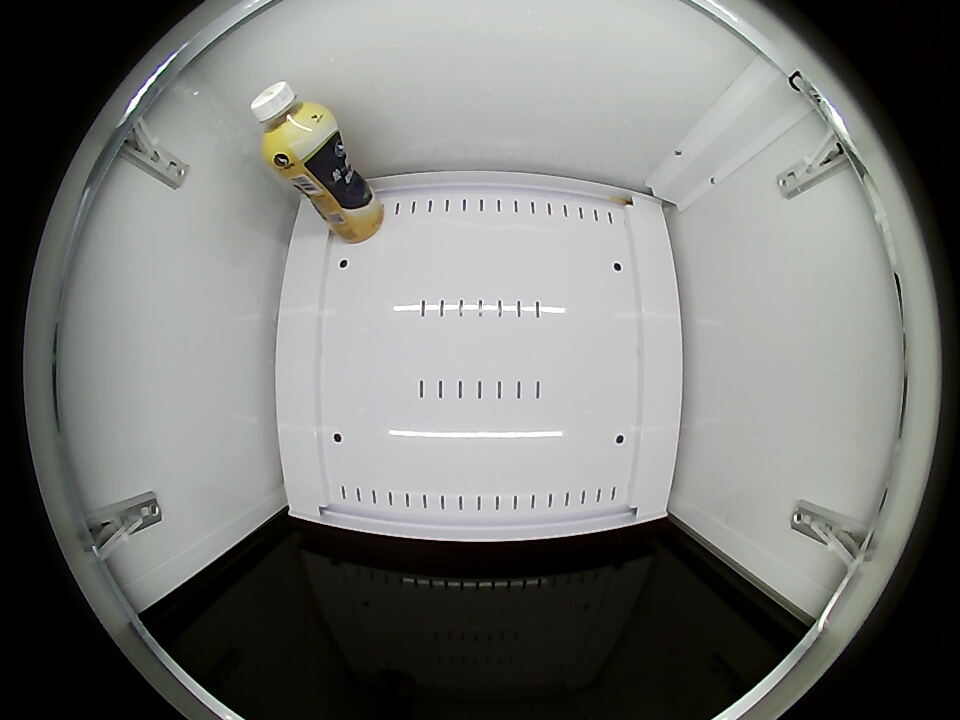asamu: (251, 80, 332, 163)
